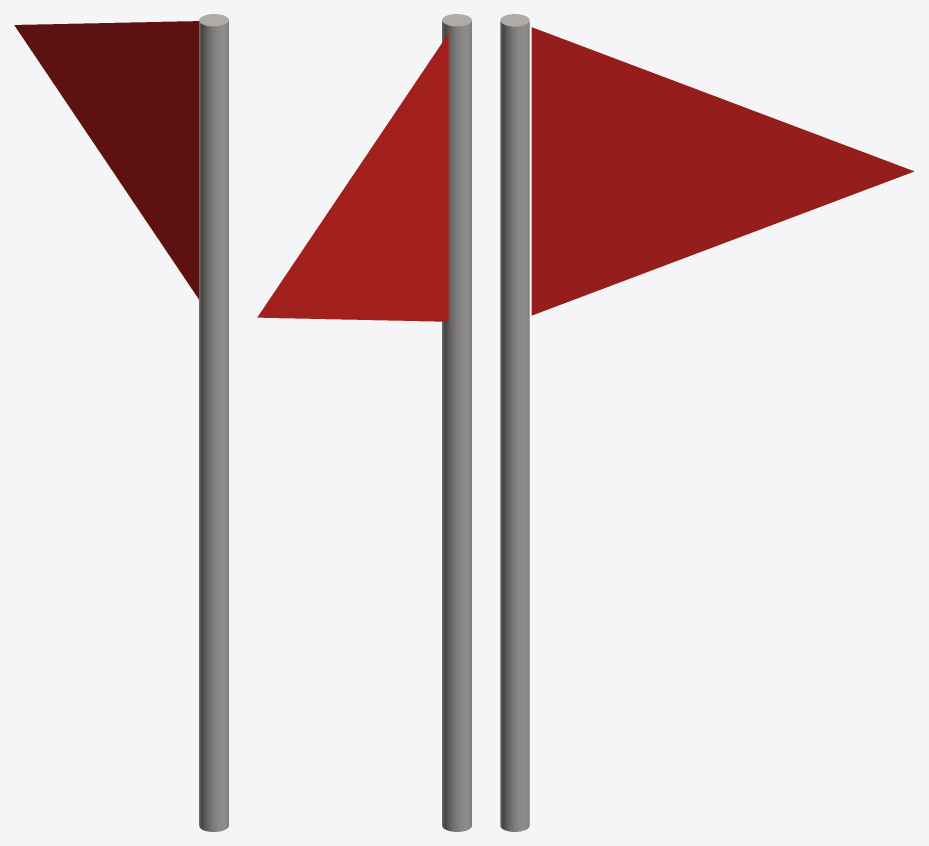
Rendered from golfflag.fbx.
3 views of the same model, side by side, from view 1: azimuth 30°, elevation 25°; view 2: azimuth 150°, elevation 25°; view 3: azimuth 270°, elevation 25° (orthographic).
Visible parts, largest first — view 1: Plane, Cylinder; view 2: Plane, Cylinder; view 3: Plane, Cylinder.
Part boxes in pixels (x1=…): Plane: x1=14, y1=21, x2=198, y2=298; Cylinder: x1=199, y1=14, x2=228, y2=831; Plane: x1=257, y1=33, x2=448, y2=321; Cylinder: x1=442, y1=14, x2=471, y2=831; Plane: x1=531, y1=27, x2=913, y2=315; Cylinder: x1=500, y1=14, x2=529, y2=831.
Bounding box in the file's own units: 18.82 × 558 × 260.
